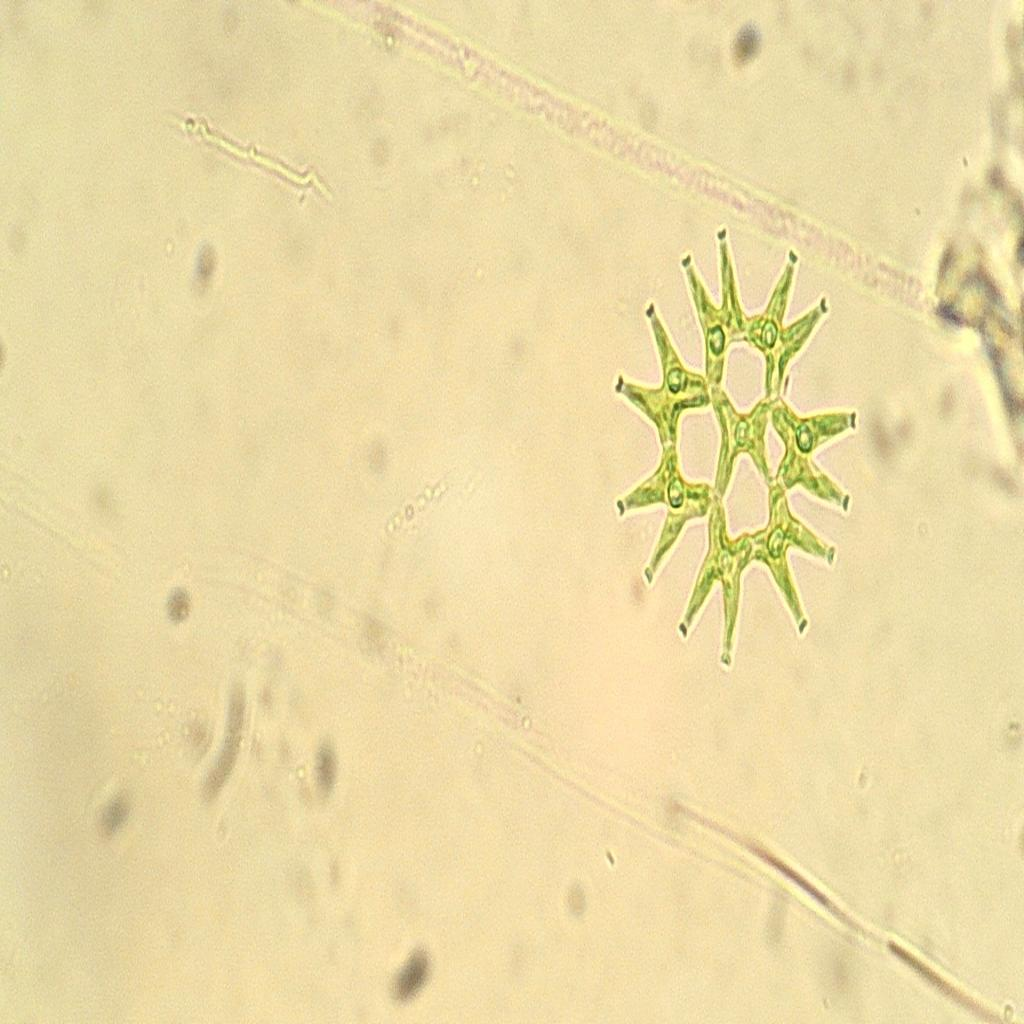Pediastrum_75T: (605, 197, 867, 695)
